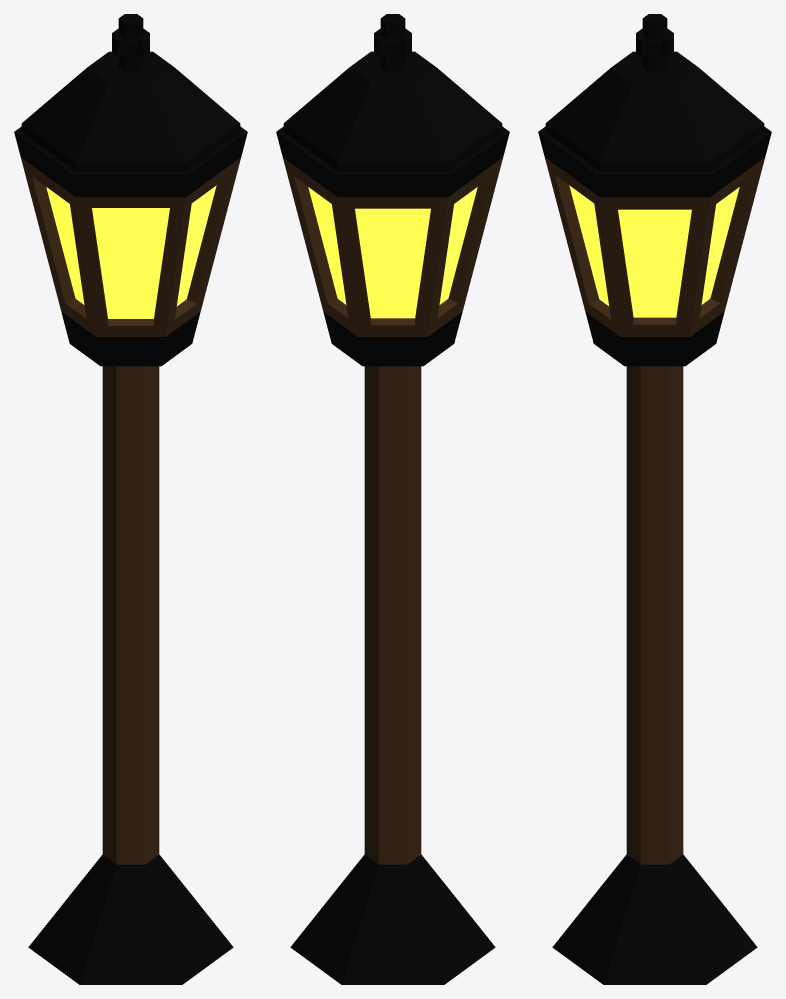
File: lamp.fbx
3 views of the same model, side by side, from view 1: azimuth 30°, elevation 25°; view 2: azimuth 150°, elevation 25°; view 3: azimuth 270°, elevation 25° (orthographic).
Parts seen in each view (by area): view 1: Cylinder; view 2: Cylinder; view 3: Cylinder.
Part boxes in pixels (bbox=[...]): Cylinder: bbox=[14, 14, 247, 984]; Cylinder: bbox=[276, 14, 509, 984]; Cylinder: bbox=[538, 14, 771, 984].
Size of the model in its own units: 62.88 by 318 by 72.61.
